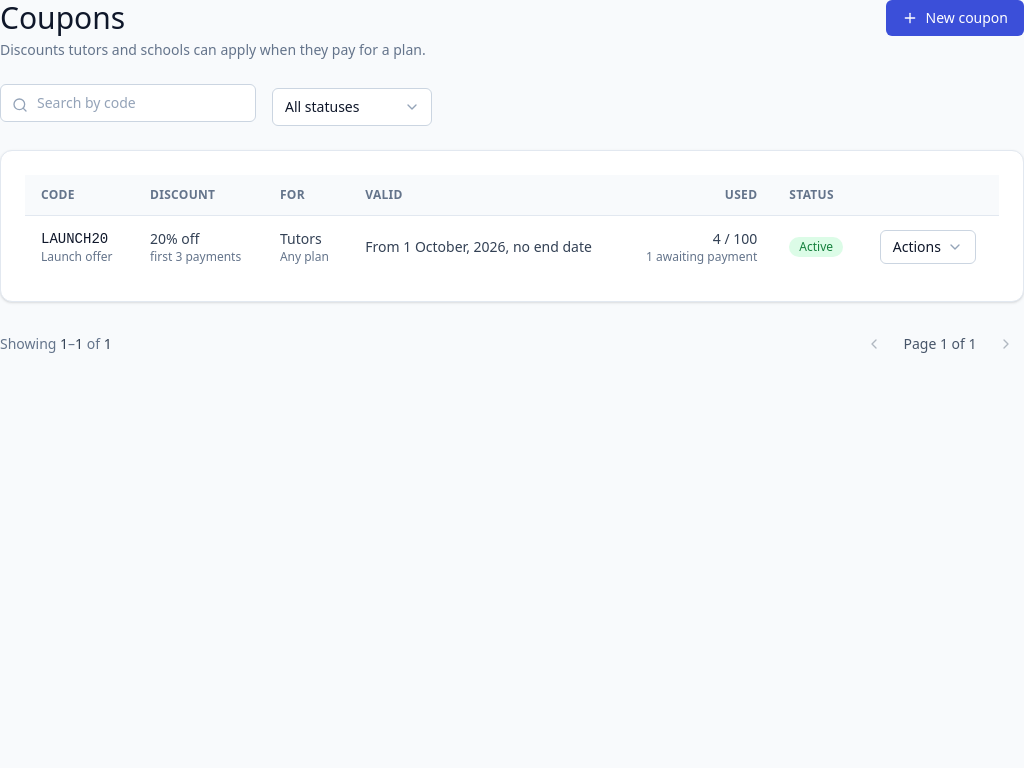
Test: CouponsPage › locks a coupon's terms when editing it
Click the button with aria-label "Actions for LAUNCH20" at [928, 246], box [880,230,976,264]
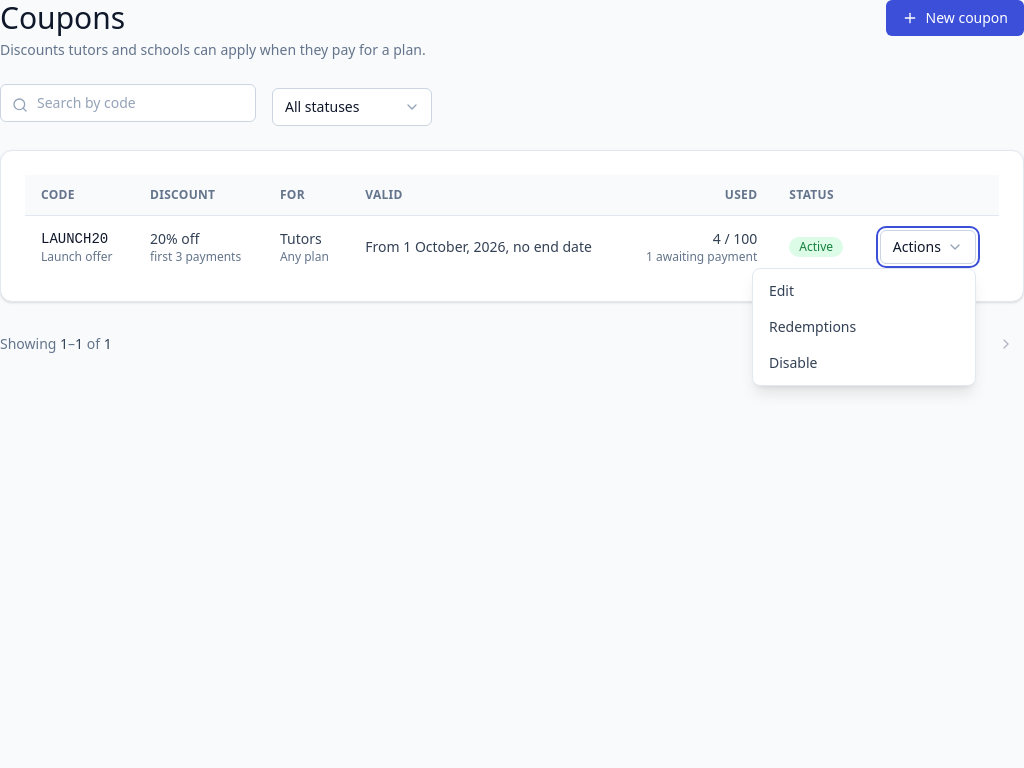
Click the menu item "Edit" at [864, 290], box [753,272,975,308]
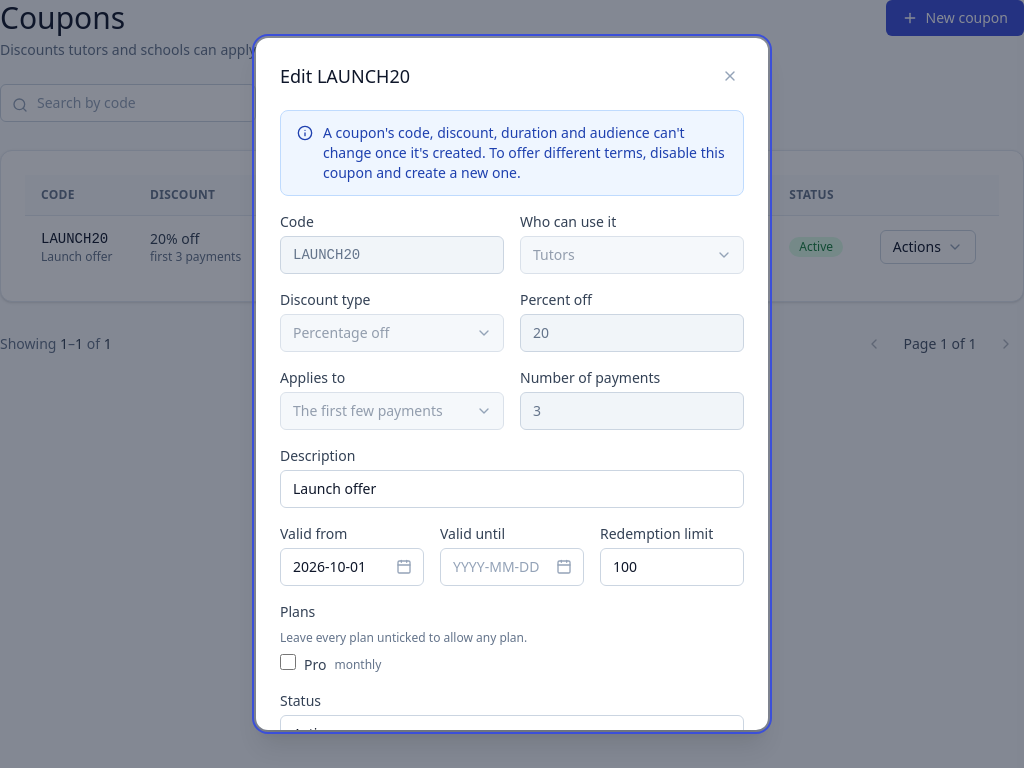
expect the field labelled "Code" is disabled: met, box [280,236,504,274]
expect the number field labelled "Percent off" is disabled: met, box [520,314,744,352]
expect the number field labelled "Redemption limit" is enabled: met, box [600,548,744,586]
